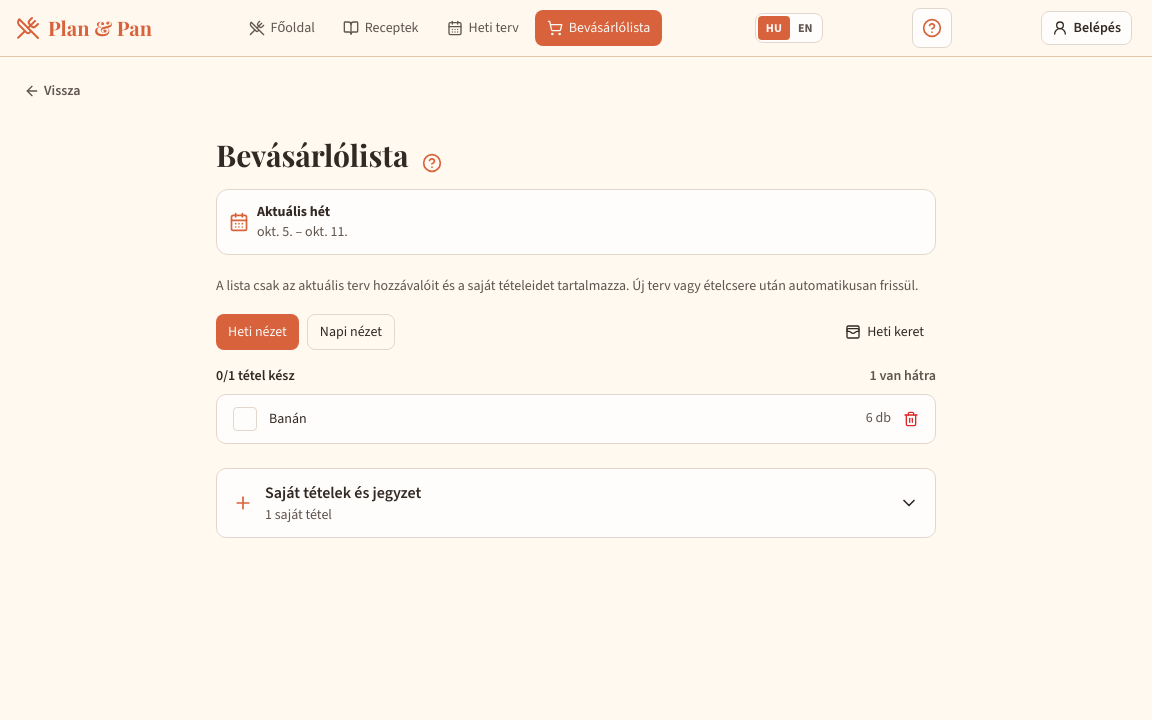
Test: shopping list mobile simplicity › updates the visible progress when an item is checked
Click the button named "Banán kipipálása" at (245, 419), box top-left (233, 407), bottom-right (257, 431)
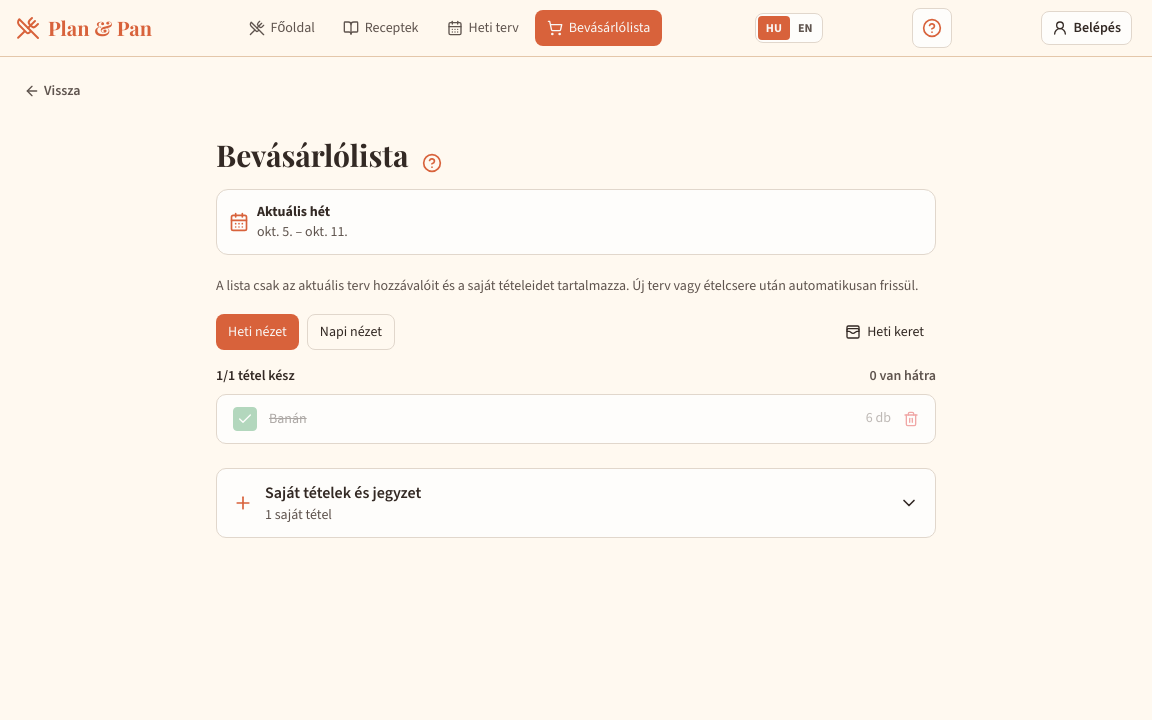
Expected: the text "1/1 tétel kész" is shown, top-left (216, 366), bottom-right (295, 386)
Expected: the text "0 van hátra" is shown, top-left (870, 366), bottom-right (936, 386)
